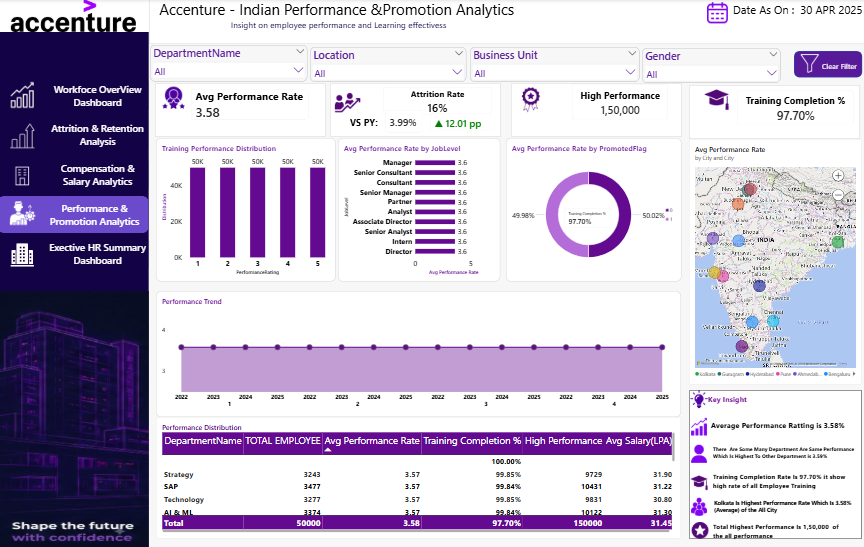

What the dashboard file says about the page in this screenshot:
{"tool":"powerbi","page":{"name":"Performance & Promotion Analytics","canvas":[2500,1580],"ordinal":3},"visuals":[{"type":"shape","box":[0,0,432.9,94.8],"z":0,"group":"g3"},{"type":"shape","box":[432.9,0,2066.6,129.6],"z":0,"group":"g2"},{"type":"shape","box":[0,94.8,432.9,1485.2],"z":0,"group":"g1"},{"type":"slicer","fields":{"Values":["DimDepartment.DepartmentName"]},"box":[436.1,132.7,451.9,104.7],"z":0,"group":"g4"},{"type":"shape","box":[449.9,240.2,489.8,154.8],"z":0,"group":"g5"},{"type":"shape","box":[954.3,240.2,489.8,154.8],"z":0,"group":"g10"},{"type":"shape","box":[1472.6,240.2,489.8,154.8],"z":0,"group":"g6"},{"type":"shape","box":[1984.5,246.5,489.8,154.8],"z":0,"group":"g7"},{"type":"donutChart","fields":{"Category":["FactPerformance.PromotedFlag"],"Y":["ALL_Measure_Page4.Avg Performance Rate"]},"box":[1458,400,504,412],"z":0,"group":"g9"},{"type":"map","fields":{"Category":["DimLocation.City"],"Series":["DimLocation.City"],"Size":["ALL_Measure_Page4.Avg Performance Rate"]},"box":[1984,402,496,706],"z":0},{"type":"shape","box":[1984,1124,496,428],"z":0,"group":"g8"},{"type":"clusteredColumnChart","title":"Training Performance Distribution","fields":{"Category":["FactPerformance.PerformanceRating"],"Y":["ALL_Measure_Page1.TOTAL EMPLOYEE"]},"box":[454,400,516,412],"z":250},{"type":"lineChart","title":"Performance Trend","fields":{"Category":["DimDate.Quarter","DimDate.Year","DimDate.Month"],"Y":["ALL_Measure_Page4.Avg Performance Rate"]},"box":[454,838,1508,362],"z":500},{"type":"image","box":[0,0,432.9,94.8],"z":1000,"group":"g3"},{"type":"textbox","box":[433.2,0,1090.2,129.6],"z":1000,"group":"g2"},{"type":"slicer","fields":{"Values":["DimLocation.City"]},"box":[894.4,137.3,448.7,100.2],"z":1000,"group":"g4"},{"type":"pageNavigator","box":[0,224.4,432.9,565.6],"z":1000,"group":"g1"},{"type":"image","box":[453.1,246.5,101.1,72.7],"z":1000,"group":"g5"},{"type":"image","box":[1485.2,252.8,91.6,72.7],"z":1000,"group":"g6"},{"type":"image","box":[2012.9,252.8,101.1,72.7],"z":1000,"group":"g7"},{"type":"image","box":[954.3,259.2,101.1,72.7],"z":1000,"group":"g10"},{"type":"cardVisual","fields":{"Data":["ALL_Measure_Page4.Training Completion %"]},"box":[1624,602,138,56],"z":1000,"group":"g9"},{"type":"image","box":[1986,1124,52,52],"z":1000,"group":"g8"},{"type":"tableEx","title":"Performance Distribution ","fields":{"Values":["DimDepartment.DepartmentName","ALL_Measure_Page1.TOTAL EMPLOYEE","ALL_Measure_Page4.Avg Performance Rate","ALL_Measure_Page4.Training Completion %","ALL_Measure_Page4.High Performance","All_Measure_Page3.Avg Salary(LPA)"]},"box":[453.9,1201.1,1508.4,349.2],"z":1000},{"type":"cardVisual","fields":{"Data":["ALL_Measure_Page1.Attrition Rate"]},"box":[1106,252.8,312.8,79],"z":1500,"group":"g10"},{"type":"clusteredBarChart","fields":{"Category":["DimJobLevel.JobLevel"],"Y":["ALL_Measure_Page4.Avg Performance Rate"]},"box":[978,400,466,412],"z":1500},{"type":"textbox","box":[2110.9,9.5,388.7,60],"z":2000,"group":"g2"},{"type":"group","id":"g1","title":"Left Pane","box":[0,94.8,432.9,1485.2],"z":2000},{"type":"slicer","fields":{"Values":["DimEmployee.Gender"]},"box":[1848.8,140,398.2,100.2],"z":2000,"group":"g4"},{"type":"image","box":[31.6,233.8,75.8,85.3],"z":2000,"group":"g1"},{"type":"cardVisual","fields":{"Data":["ALL_Measure_Page4.High Performance"]},"box":[1648.1,244.5,275.8,104.7],"z":2000,"group":"g6"},{"type":"cardVisual","fields":{"Data":["ALL_Measure_Page4.Avg Performance Rate"]},"box":[554.4,257.1,338.1,88.5],"z":2000,"group":"g5"},{"type":"cardVisual","fields":{"Data":["ALL_Measure_Page4.Training Completion %"]},"box":[2122.5,262.3,335.2,101.3],"z":2000,"group":"g7"},{"type":"cardVisual","fields":{"Data":["ALL_Measure_Page1.Difference Attrition"]},"box":[1241.9,325.5,177,50.6],"z":2000,"group":"g10"},{"type":"textbox","box":[2038,1136,172,40],"z":2000,"group":"g8"},{"type":"group","id":"g2","title":"Top Pane","box":[432.9,0,2066.6,129.6],"z":3000},{"type":"image","box":[2035,0,60,79],"z":3000,"group":"g2"},{"type":"slicer","fields":{"Values":["FactRecruitment.Stage"]},"box":[1355.8,137.1,486.7,100.2],"z":3000,"group":"g4"},{"type":"textbox","box":[1012.5,334.5,115.9,47.1],"z":3000,"group":"g10"},{"type":"image","box":[31.6,350.8,75.8,85.3],"z":3000,"group":"g1"},{"type":"image","box":[1986,1200,52,62],"z":3000,"group":"g8"},{"type":"group","id":"g3","title":"Logo","box":[0,0,432.9,94.8],"z":4000},{"type":"shape","box":[2284.7,148.5,195.9,75.8],"z":4000,"group":"g4"},{"type":"cardVisual","fields":{"Data":["ALL_Measure_Page1.Previous Year Attrition"]},"box":[1112.8,318.5,107.5,65],"z":4000,"group":"g10"},{"type":"image","box":[0,837.4,432.9,742.6],"z":4000,"group":"g1"},{"type":"textbox","box":[2048,1210,410,44],"z":4000,"group":"g8"},{"type":"group","id":"g4","title":"Slicer Top","box":[436.1,132.7,2044.5,107.4],"z":5000},{"type":"image","box":[2300.5,158,63.2,53.7],"z":5000,"group":"g4"},{"type":"image","box":[31.6,464.5,75.8,85.3],"z":5000,"group":"g1"},{"type":"image","box":[1986,1276,52,62],"z":5000,"group":"g8"},{"type":"textbox","box":[2366.6,177.8,107.4,34.8],"z":6000,"group":"g4"},{"type":"group","id":"g5","title":"Ave Performance Rate","box":[449.9,240.2,489.8,154.8],"z":6000},{"type":"image","box":[31.6,572,75.8,85.3],"z":6000,"group":"g1"},{"type":"textbox","box":[2052,1282,406,52],"z":6000,"group":"g8"},{"type":"group","id":"g6","title":"High Performance","box":[1472.6,240.2,489.8,154.8],"z":7000},{"type":"image","box":[31.6,692,75.8,85.3],"z":7000,"group":"g1"},{"type":"image","box":[1986,1360,52,62],"z":7000,"group":"g8"},{"type":"group","id":"g7","title":"Training Performance","box":[1984.5,246.5,489.8,154.8],"z":8000},{"type":"textbox","box":[2052,1360,406,50],"z":8000,"group":"g8"},{"type":"image","box":[1986,1428,52,62],"z":9000,"group":"g8"},{"type":"textbox","box":[2056,1436,398,46],"z":10000,"group":"g8"},{"type":"image","box":[1990,1504,52,48],"z":11000,"group":"g8"},{"type":"group","id":"g8","title":"Key Insight","box":[1984,1124,496,428],"z":12000},{"type":"textbox","box":[2054,1502,384,50],"z":12000,"group":"g8"},{"type":"group","id":"g9","title":"Avg Performance rate ","box":[1458,400,504,412],"z":13000},{"type":"group","id":"g10","title":"Attrition Rate","box":[954.3,240.2,489.8,154.8],"z":14000}]}

Visuals, with their boxes on the page's 2500x1580 design canvas (x1, y1, x2, y2). These are canvas units, not pixel positions in the 864x547 screenshot, which may show the page scaled, cropped or inside an application window:
shape: x1=0 y1=0 x2=433 y2=95
shape: x1=433 y1=0 x2=2500 y2=130
shape: x1=0 y1=95 x2=433 y2=1580
slicer - DimDepartment.DepartmentName: x1=436 y1=133 x2=888 y2=237
shape: x1=450 y1=240 x2=940 y2=395
shape: x1=954 y1=240 x2=1444 y2=395
shape: x1=1473 y1=240 x2=1962 y2=395
shape: x1=1984 y1=246 x2=2474 y2=401
donutChart - FactPerformance.PromotedFlag x ALL_Measure_Page4.Avg Performance Rate: x1=1458 y1=400 x2=1962 y2=812
map - DimLocation.City x DimLocation.City: x1=1984 y1=402 x2=2480 y2=1108
shape: x1=1984 y1=1124 x2=2480 y2=1552
"Training Performance Distribution" clusteredColumnChart: x1=454 y1=400 x2=970 y2=812
"Performance Trend" lineChart: x1=454 y1=838 x2=1962 y2=1200
image: x1=0 y1=0 x2=433 y2=95
textbox: x1=433 y1=0 x2=1523 y2=130
slicer - DimLocation.City: x1=894 y1=137 x2=1343 y2=238
pageNavigator: x1=0 y1=224 x2=433 y2=790
image: x1=453 y1=246 x2=554 y2=319
image: x1=1485 y1=253 x2=1577 y2=326
image: x1=2013 y1=253 x2=2114 y2=326
image: x1=954 y1=259 x2=1055 y2=332
cardVisual - ALL_Measure_Page4.Training Completion %: x1=1624 y1=602 x2=1762 y2=658
image: x1=1986 y1=1124 x2=2038 y2=1176
"Performance Distribution " tableEx: x1=454 y1=1201 x2=1962 y2=1550
cardVisual - ALL_Measure_Page1.Attrition Rate: x1=1106 y1=253 x2=1419 y2=332
clusteredBarChart - DimJobLevel.JobLevel x ALL_Measure_Page4.Avg Performance Rate: x1=978 y1=400 x2=1444 y2=812
textbox: x1=2111 y1=10 x2=2500 y2=70
"Left Pane" group: x1=0 y1=95 x2=433 y2=1580
slicer - DimEmployee.Gender: x1=1849 y1=140 x2=2247 y2=240
image: x1=32 y1=234 x2=107 y2=319
cardVisual - ALL_Measure_Page4.High Performance: x1=1648 y1=244 x2=1924 y2=349
cardVisual - ALL_Measure_Page4.Avg Performance Rate: x1=554 y1=257 x2=892 y2=346
cardVisual - ALL_Measure_Page4.Training Completion %: x1=2122 y1=262 x2=2458 y2=364
cardVisual - ALL_Measure_Page1.Difference Attrition: x1=1242 y1=326 x2=1419 y2=376
textbox: x1=2038 y1=1136 x2=2210 y2=1176
"Top Pane" group: x1=433 y1=0 x2=2500 y2=130
image: x1=2035 y1=0 x2=2095 y2=79
slicer - FactRecruitment.Stage: x1=1356 y1=137 x2=1842 y2=237
textbox: x1=1012 y1=334 x2=1128 y2=382
image: x1=32 y1=351 x2=107 y2=436
image: x1=1986 y1=1200 x2=2038 y2=1262
"Logo" group: x1=0 y1=0 x2=433 y2=95
shape: x1=2285 y1=148 x2=2481 y2=224
cardVisual - ALL_Measure_Page1.Previous Year Attrition: x1=1113 y1=318 x2=1220 y2=384
image: x1=0 y1=837 x2=433 y2=1580
textbox: x1=2048 y1=1210 x2=2458 y2=1254
"Slicer Top" group: x1=436 y1=133 x2=2481 y2=240
image: x1=2300 y1=158 x2=2364 y2=212
image: x1=32 y1=464 x2=107 y2=550
image: x1=1986 y1=1276 x2=2038 y2=1338
textbox: x1=2367 y1=178 x2=2474 y2=213
"Ave Performance Rate" group: x1=450 y1=240 x2=940 y2=395
image: x1=32 y1=572 x2=107 y2=657
textbox: x1=2052 y1=1282 x2=2458 y2=1334
"High Performance" group: x1=1473 y1=240 x2=1962 y2=395
image: x1=32 y1=692 x2=107 y2=777
image: x1=1986 y1=1360 x2=2038 y2=1422
"Training Performance" group: x1=1984 y1=246 x2=2474 y2=401
textbox: x1=2052 y1=1360 x2=2458 y2=1410
image: x1=1986 y1=1428 x2=2038 y2=1490
textbox: x1=2056 y1=1436 x2=2454 y2=1482
image: x1=1990 y1=1504 x2=2042 y2=1552
"Key Insight" group: x1=1984 y1=1124 x2=2480 y2=1552
textbox: x1=2054 y1=1502 x2=2438 y2=1552
"Avg Performance rate " group: x1=1458 y1=400 x2=1962 y2=812
"Attrition Rate" group: x1=954 y1=240 x2=1444 y2=395
